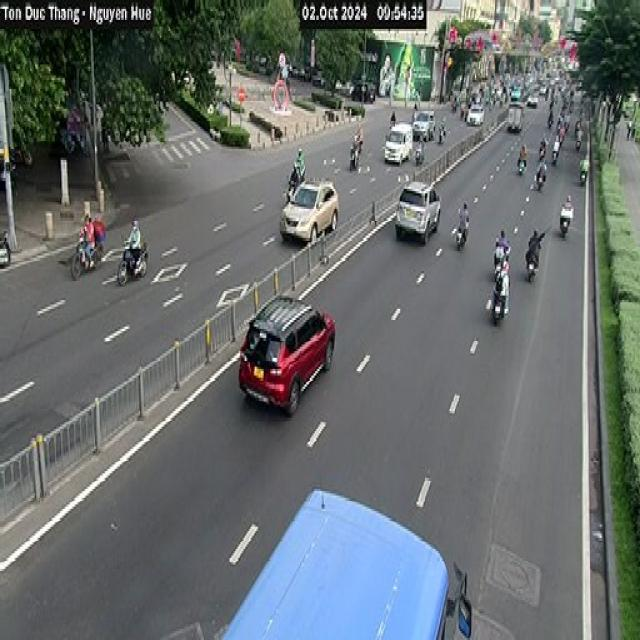bus: (228, 471, 483, 640)
car: (236, 297, 334, 413), (288, 174, 341, 236), (397, 180, 449, 238), (381, 126, 413, 166), (408, 113, 438, 143), (470, 100, 484, 135), (526, 90, 540, 110)
motorcycle: (60, 235, 104, 279), (113, 241, 158, 281), (487, 289, 510, 322), (451, 220, 471, 254), (526, 250, 542, 292), (348, 150, 363, 185), (284, 180, 300, 210), (558, 213, 571, 247), (489, 251, 501, 283), (515, 154, 529, 180), (533, 176, 544, 208), (411, 144, 423, 172), (574, 168, 589, 189), (574, 135, 585, 162), (438, 128, 448, 153), (538, 150, 549, 172), (550, 150, 560, 170), (556, 136, 568, 150), (547, 110, 556, 127)
person: (72, 202, 97, 258), (490, 262, 513, 304), (527, 220, 543, 274), (452, 192, 472, 230), (126, 212, 142, 258), (497, 223, 513, 266), (292, 138, 309, 178), (561, 191, 577, 225), (288, 160, 300, 204), (347, 126, 362, 159), (518, 142, 532, 174), (580, 120, 594, 152), (533, 166, 552, 181), (389, 100, 399, 128), (439, 110, 449, 136), (582, 148, 592, 174), (414, 134, 424, 155), (537, 130, 550, 146)
truck: (502, 94, 528, 140)
